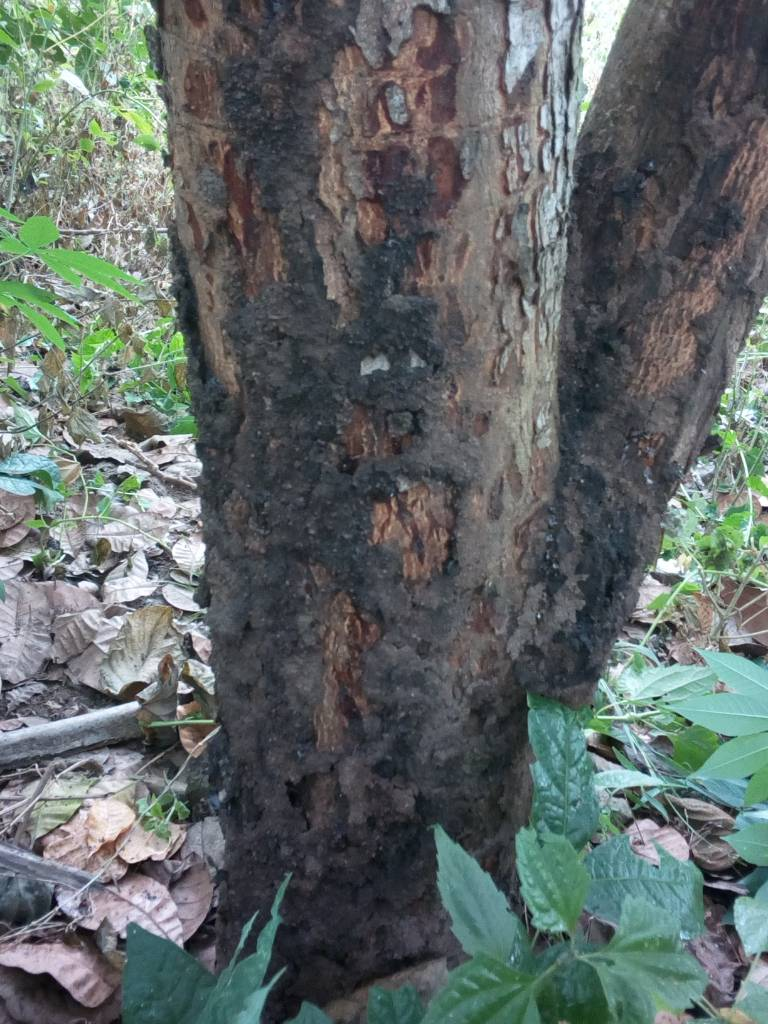Termites: (221, 407, 433, 932), (199, 8, 455, 383), (549, 185, 658, 682)
